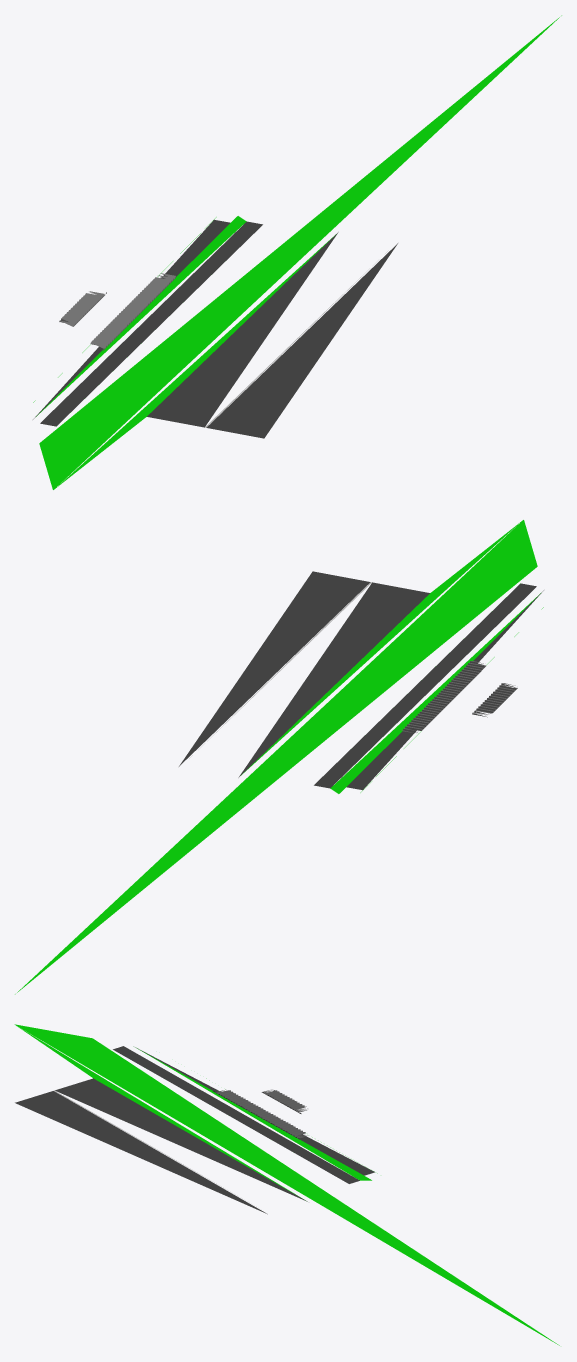
3 renders of one model, top to bottom at view 1: azimuth 30°, elevation 25°; view 2: azimuth 210°, elevation 25°; view 3: azimuth 270°, elevation 25°, orthographic. The views are drawn at different scales.
Size of the model in its own units: 55.55 by 0.1 by 39.84.
